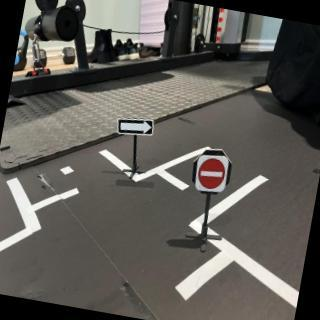sign_noentry: (194, 155, 232, 195)
sign_oneway_right: (117, 113, 157, 142)
